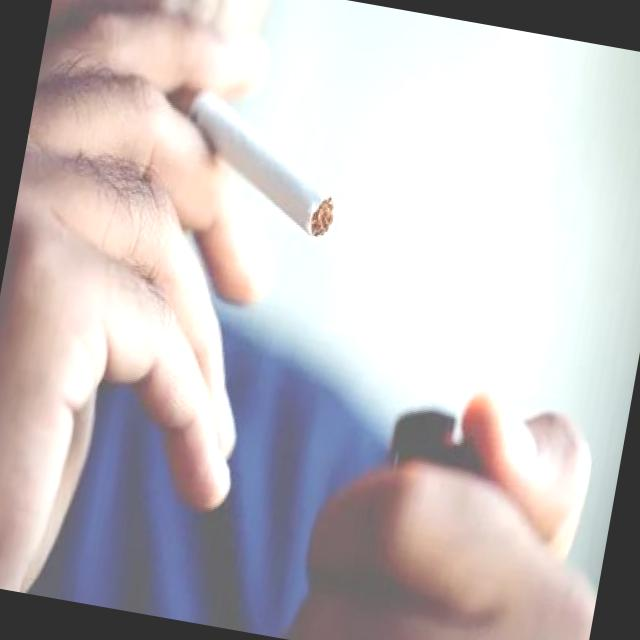smoke: (139, 73, 356, 245)
